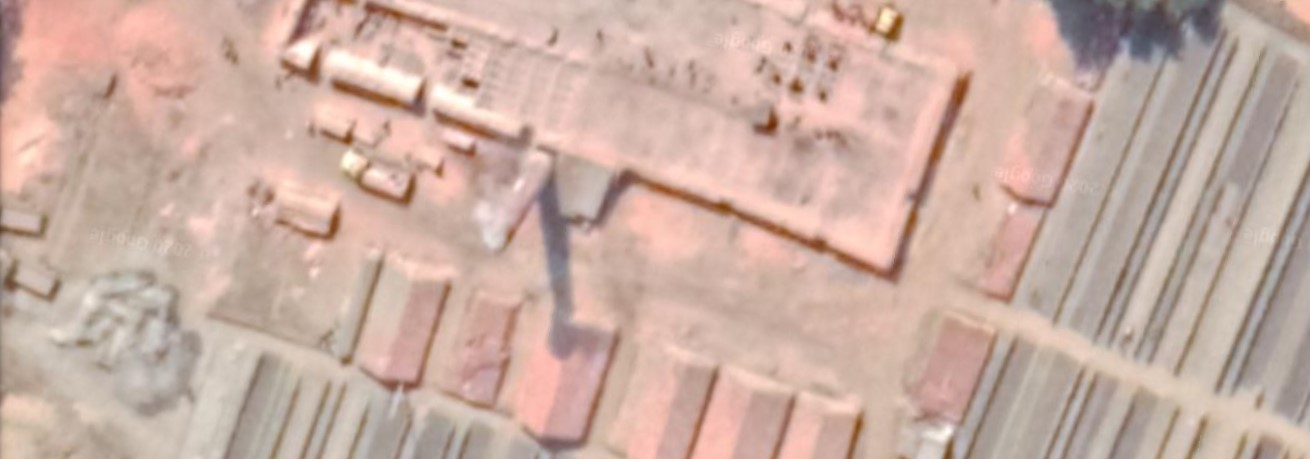kiln: (210, 4, 967, 379)
